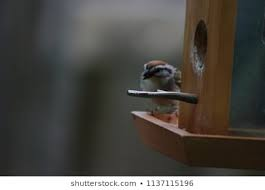home_sparrow: (129, 59, 193, 118)
